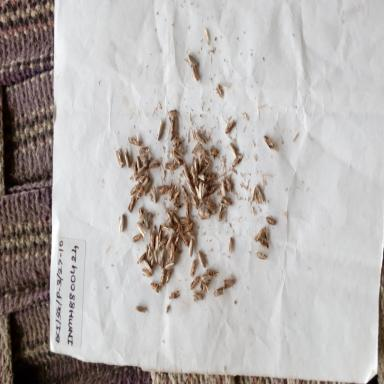pbw: (220, 114, 236, 136), (254, 222, 267, 246), (163, 155, 179, 174), (209, 82, 225, 100), (196, 156, 212, 174), (195, 176, 207, 200), (160, 222, 175, 241), (204, 193, 216, 216), (166, 102, 181, 120), (230, 150, 244, 169), (186, 176, 197, 200), (266, 211, 279, 231), (194, 128, 207, 148), (142, 177, 153, 200), (136, 166, 150, 184), (222, 174, 234, 195), (158, 180, 170, 200), (126, 194, 138, 214), (203, 24, 213, 48), (186, 53, 198, 73), (198, 143, 210, 163), (172, 150, 186, 167), (140, 209, 154, 226), (130, 231, 144, 248), (207, 142, 221, 159), (168, 125, 180, 144), (163, 203, 175, 222), (127, 132, 142, 147), (171, 139, 185, 155), (115, 146, 125, 168), (190, 64, 200, 86), (167, 178, 177, 200), (188, 274, 200, 292), (255, 182, 264, 206), (123, 147, 131, 174), (168, 206, 180, 224), (134, 300, 148, 315), (226, 234, 237, 253), (167, 242, 178, 261), (227, 142, 240, 158), (158, 260, 167, 283), (263, 133, 275, 150), (140, 262, 152, 279), (181, 162, 191, 182), (197, 249, 207, 269), (178, 228, 188, 248), (168, 114, 178, 134), (216, 204, 226, 224), (156, 118, 164, 143), (256, 246, 267, 264), (130, 178, 141, 196), (219, 173, 227, 197), (134, 250, 146, 266), (150, 185, 160, 204), (153, 224, 163, 243), (158, 233, 169, 250), (191, 154, 199, 177), (219, 195, 233, 208), (198, 206, 212, 219), (138, 141, 150, 156), (172, 186, 181, 206), (169, 289, 181, 304), (149, 279, 161, 294), (180, 183, 190, 201), (157, 247, 166, 266), (136, 221, 146, 238), (147, 157, 160, 170), (164, 299, 172, 320), (118, 210, 125, 234), (164, 259, 176, 273), (131, 156, 138, 180), (213, 284, 225, 298), (206, 266, 220, 278), (204, 168, 216, 182), (136, 204, 145, 222), (223, 277, 235, 290), (150, 246, 158, 265), (184, 219, 194, 234), (190, 258, 198, 276), (192, 291, 203, 303), (144, 257, 152, 273), (190, 144, 204, 153), (165, 266, 172, 284), (184, 196, 190, 217), (189, 158, 194, 183), (179, 216, 191, 226), (188, 237, 194, 257), (145, 244, 153, 258), (150, 227, 156, 245), (198, 277, 204, 295), (202, 273, 212, 283), (208, 184, 218, 194), (174, 230, 180, 246)
